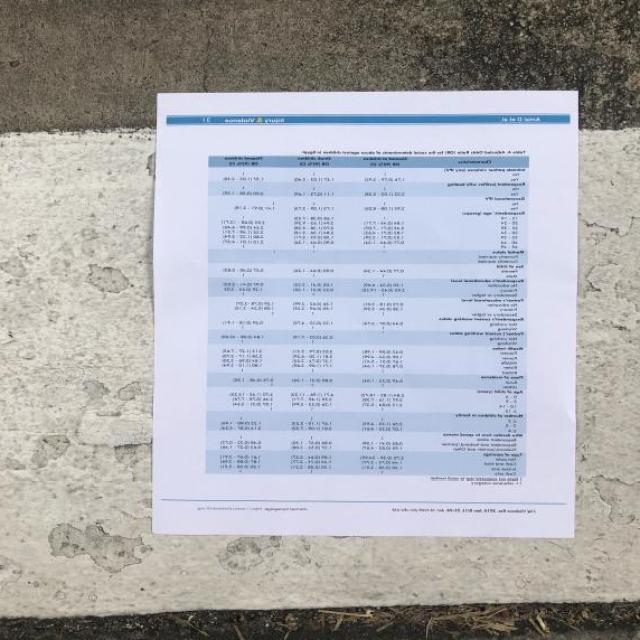kertas: (153, 88, 579, 538)
